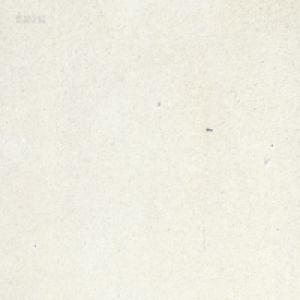Nail: (205, 126, 212, 132)
